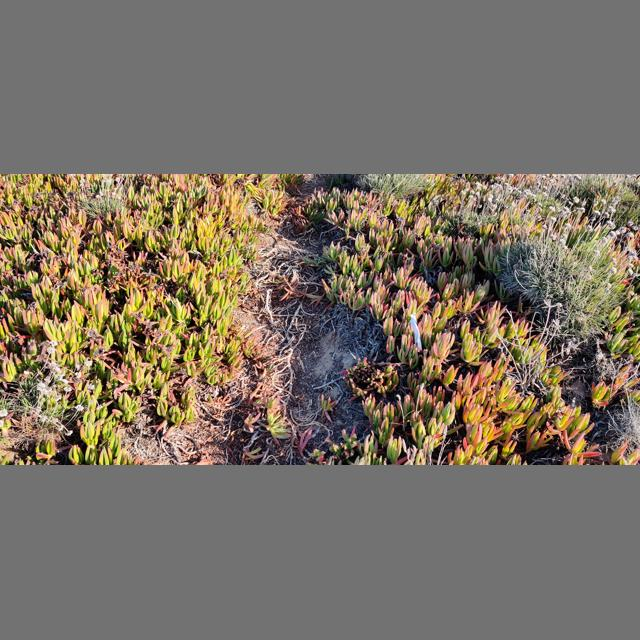litter: (411, 313, 422, 350)
